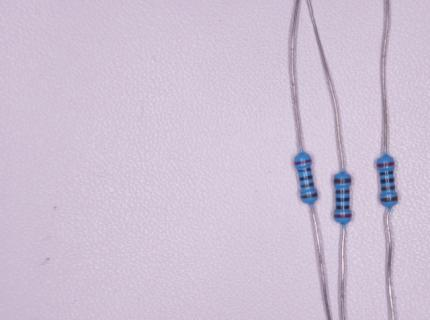Black band: (299, 175, 312, 181), (336, 197, 350, 202), (298, 167, 311, 172), (380, 179, 394, 183), (380, 171, 394, 175), (336, 206, 350, 209)
Brown band: (334, 178, 351, 183), (381, 197, 398, 202), (301, 193, 317, 198), (300, 182, 314, 187), (336, 190, 350, 194), (381, 186, 395, 190)
Red band: (294, 159, 312, 165), (377, 162, 394, 167), (334, 214, 351, 218)
